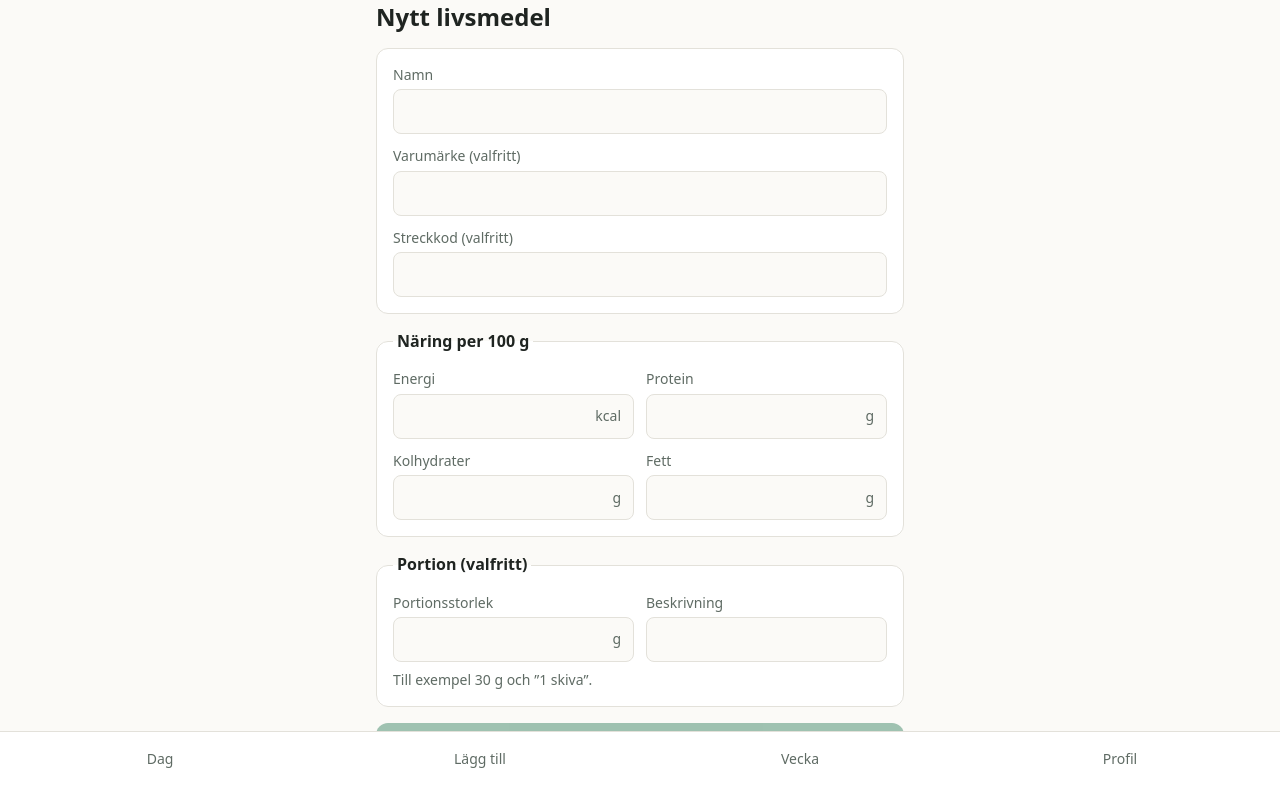
visar fel för omöjliga värden och varnar för energi som inte stämmer
This screenshot has width=1280, height=787.
In the field labelled "Namn": (640, 112) 394,90 -> 886,133, type "Test"
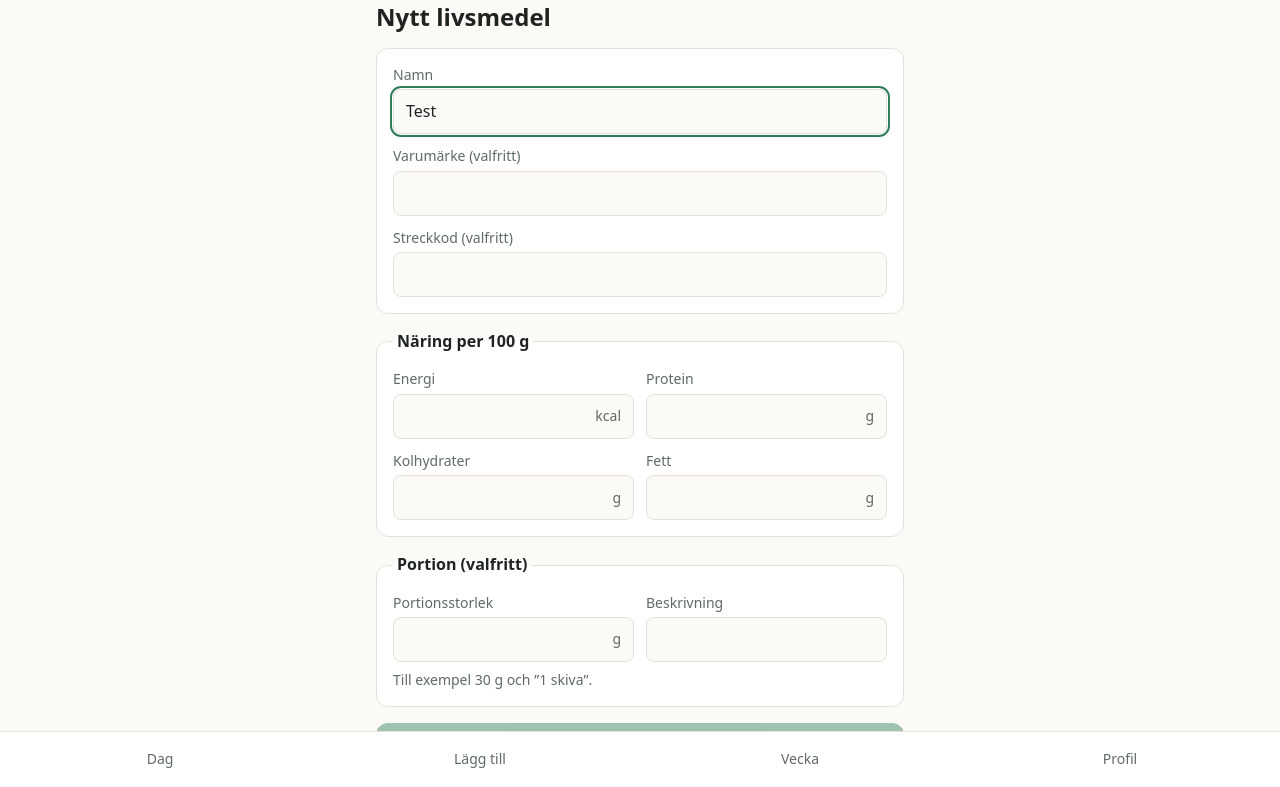
In the field labelled "Energi": (495, 416) 394,395 -> 595,438, type "50"
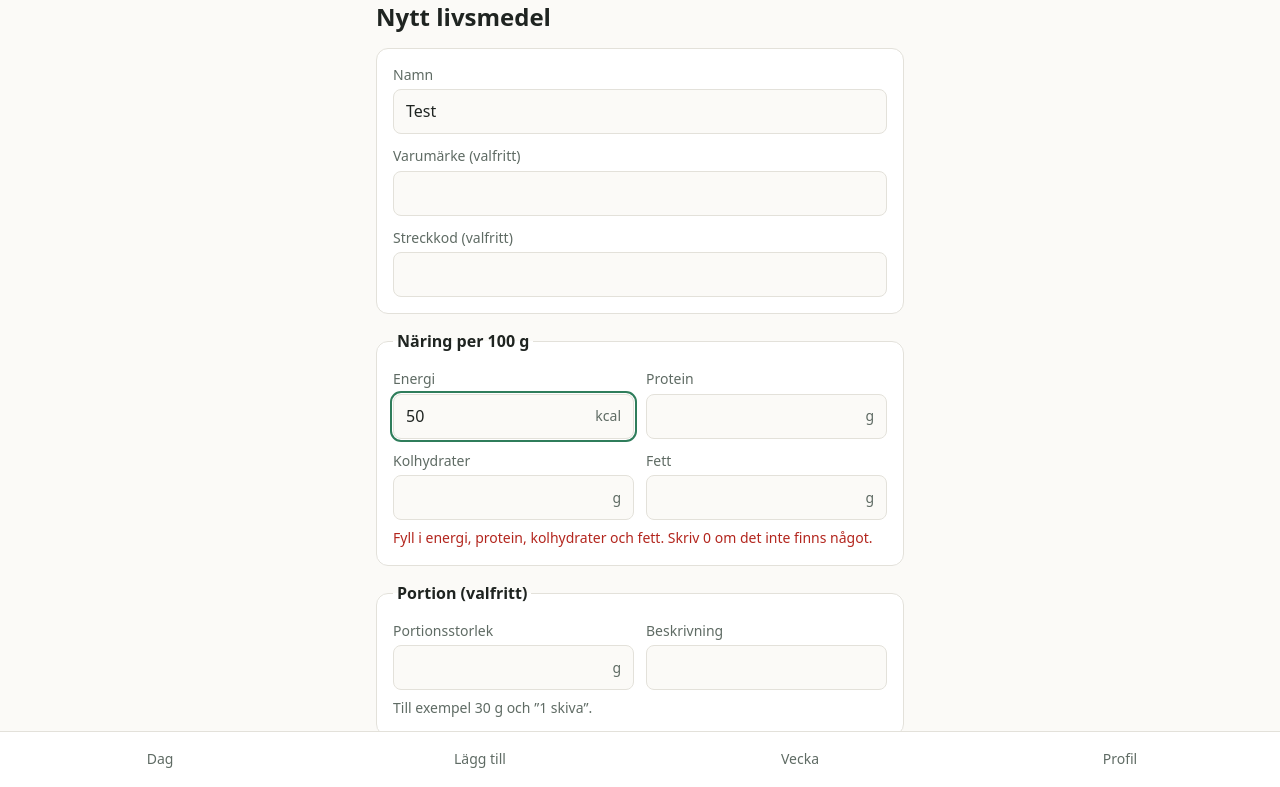
In the field labelled "Protein": (756, 416) 647,395 -> 865,438, type "60"
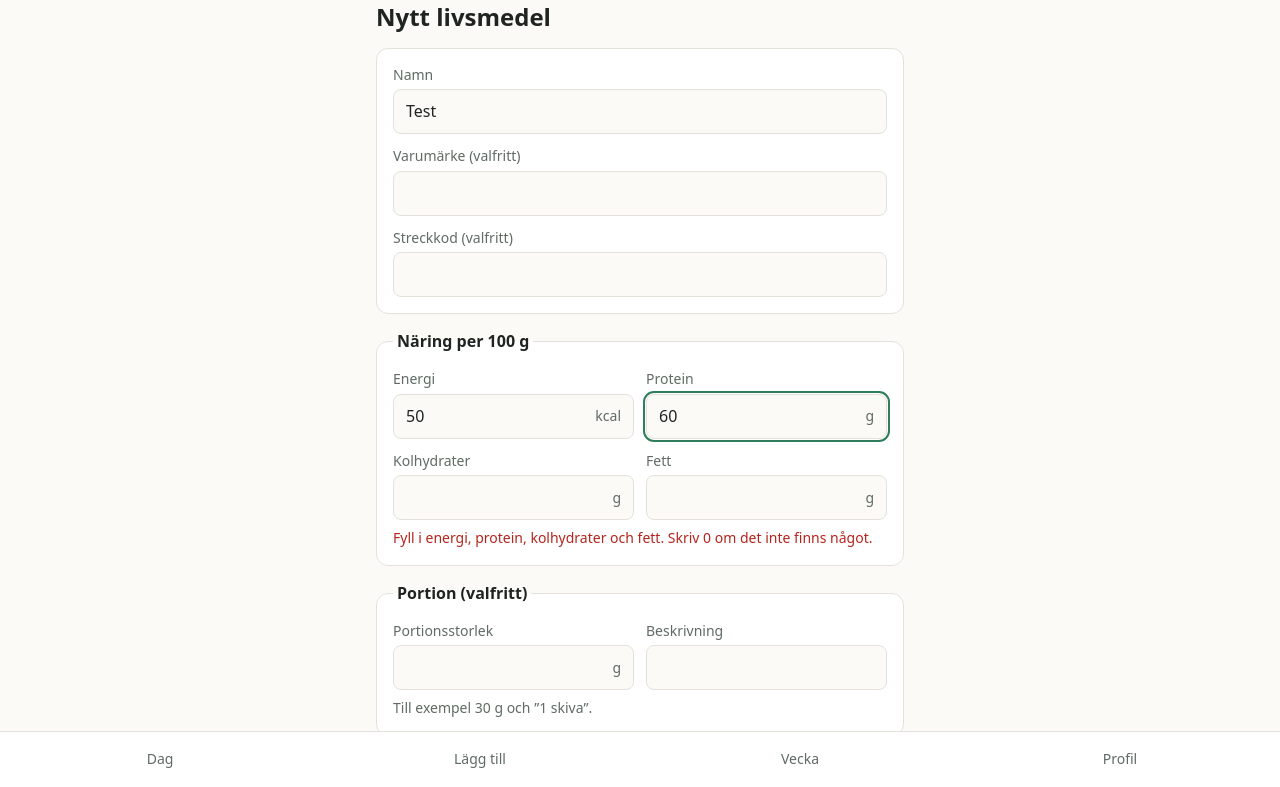
In the field labelled "Kolhydrater": (503, 498) 394,476 -> 612,519, type "60"
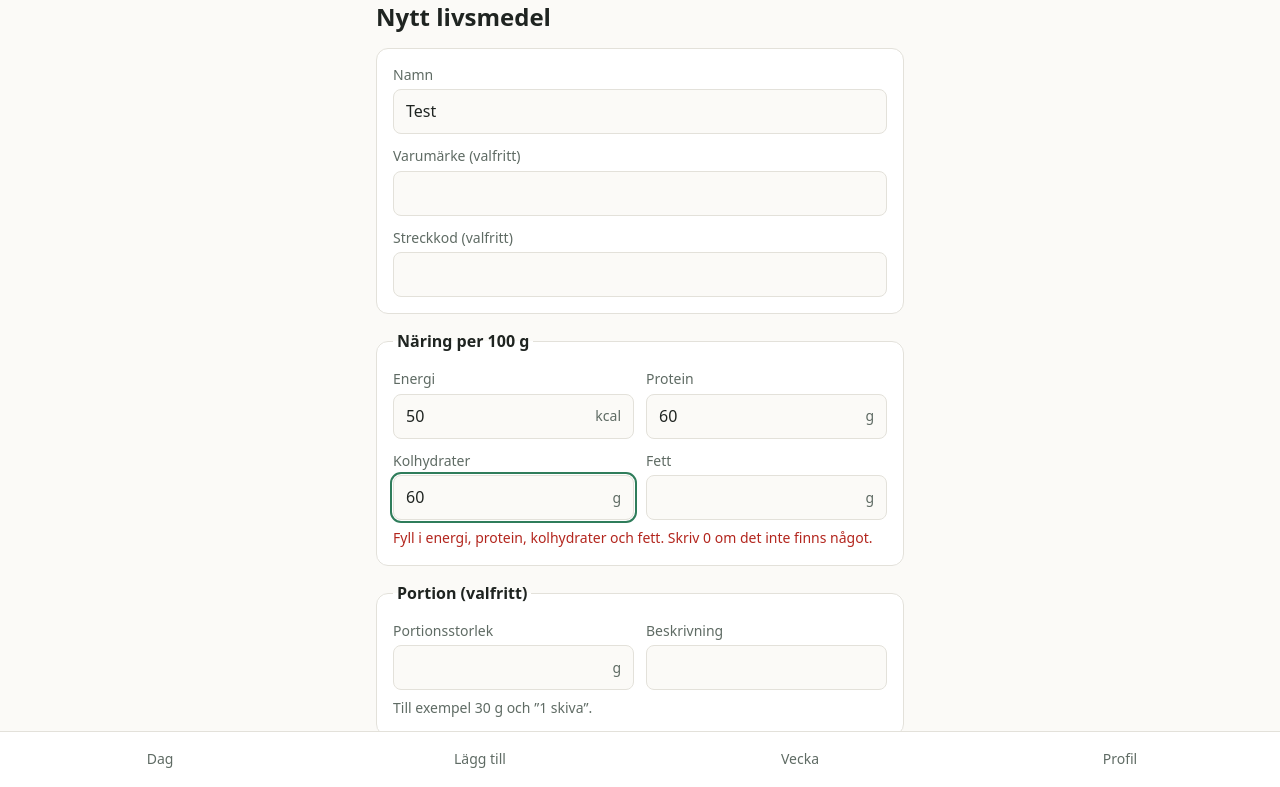
In the field labelled "Fett": (756, 498) 647,476 -> 865,519, type "0"
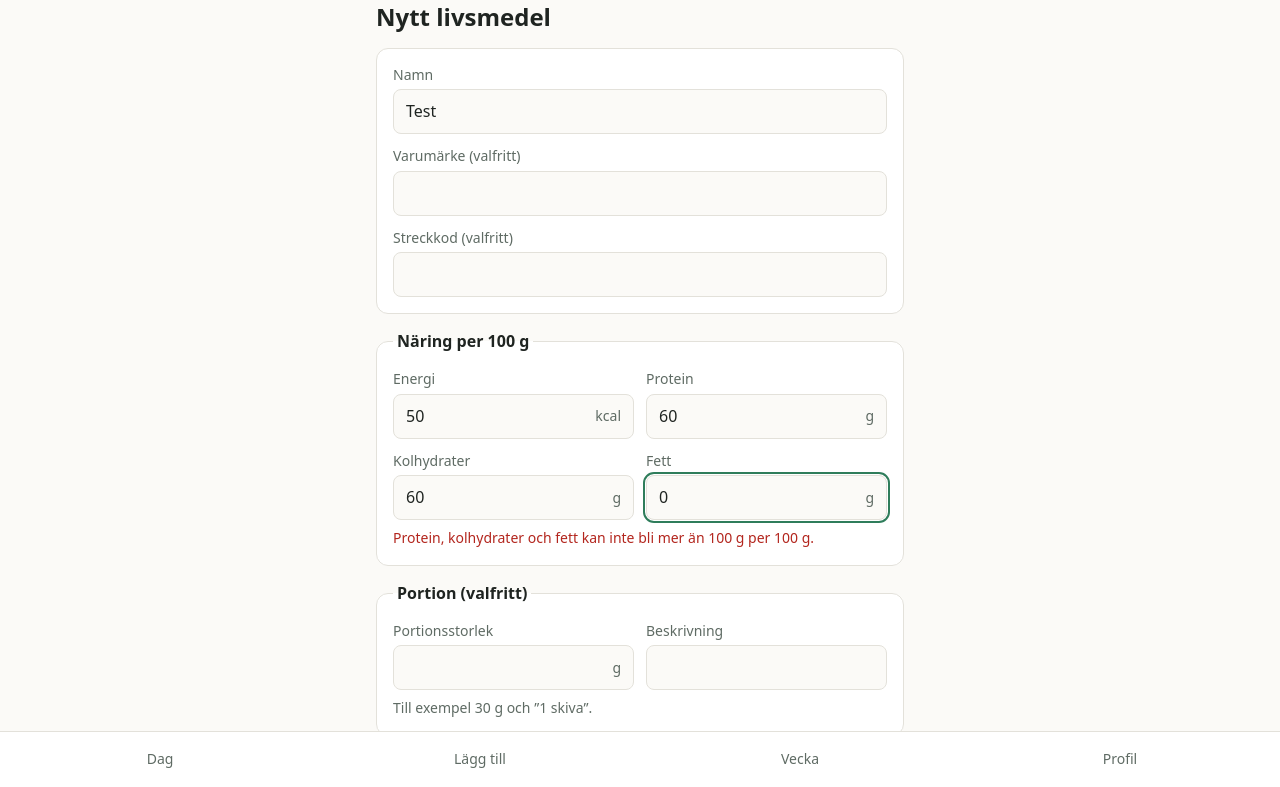
Now the text "kan inte bli mer än 100 g" is shown, box 393,528 -> 814,547
Replace the text in the field labelled "Kolhydrater" with "10": (503, 498) 394,476 -> 612,519
(page scrolled)
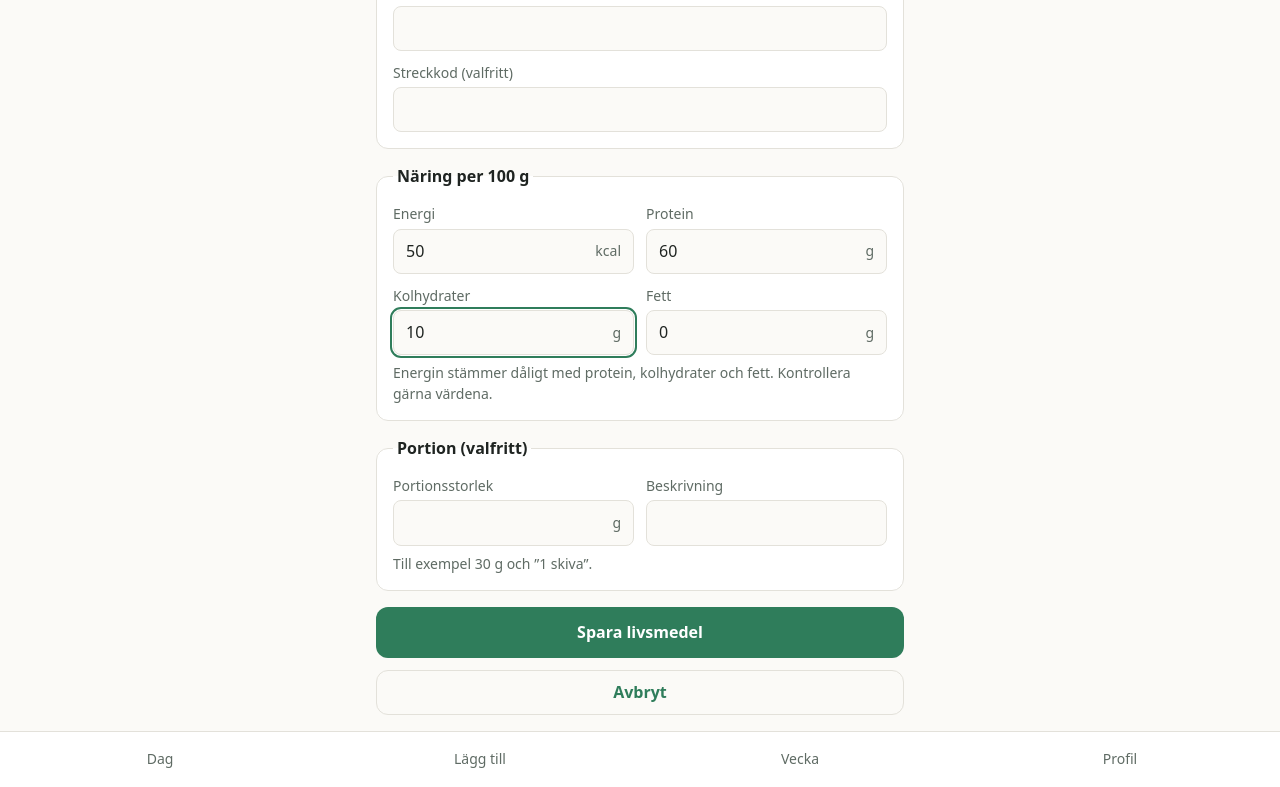
Now the message shows "Energin stämmer dåligt", box 393,363 -> 851,403
Now the button "Spara livsmedel" is enabled, box 376,607 -> 904,658
